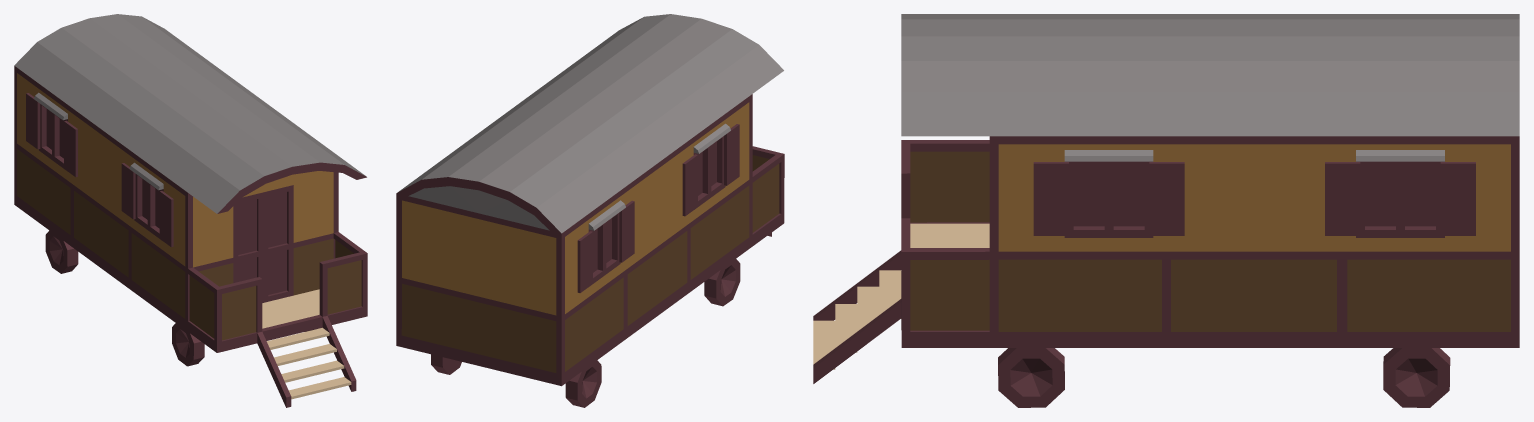
The model's file is circus-wagon.fbx.
3 renders of one model, left to right at view 1: azimuth 30°, elevation 25°; view 2: azimuth 150°, elevation 25°; view 3: azimuth 270°, elevation 25°, orthographic. The views are drawn at different scales.
Visible parts, largest first — view 1: circus-wagon-base, circus-wagon-wheel_F, circus-wagon-wheel_B; view 2: circus-wagon-base, circus-wagon-wheel_B, circus-wagon-wheel_F; view 3: circus-wagon-base, circus-wagon-wheel_B, circus-wagon-wheel_F.
Part boxes in pixels (x1,y1,x2,y2): circus-wagon-base: (14, 14, 367, 407); circus-wagon-wheel_F: (172, 323, 321, 366); circus-wagon-wheel_B: (45, 230, 78, 273); circus-wagon-base: (396, 14, 784, 386); circus-wagon-wheel_B: (431, 354, 601, 407); circus-wagon-wheel_F: (704, 259, 740, 306); circus-wagon-base: (813, 14, 1519, 383); circus-wagon-wheel_B: (1383, 348, 1450, 407); circus-wagon-wheel_F: (998, 348, 1064, 407).
Size of the model in its own units: 3.2 by 4.02 by 8.
